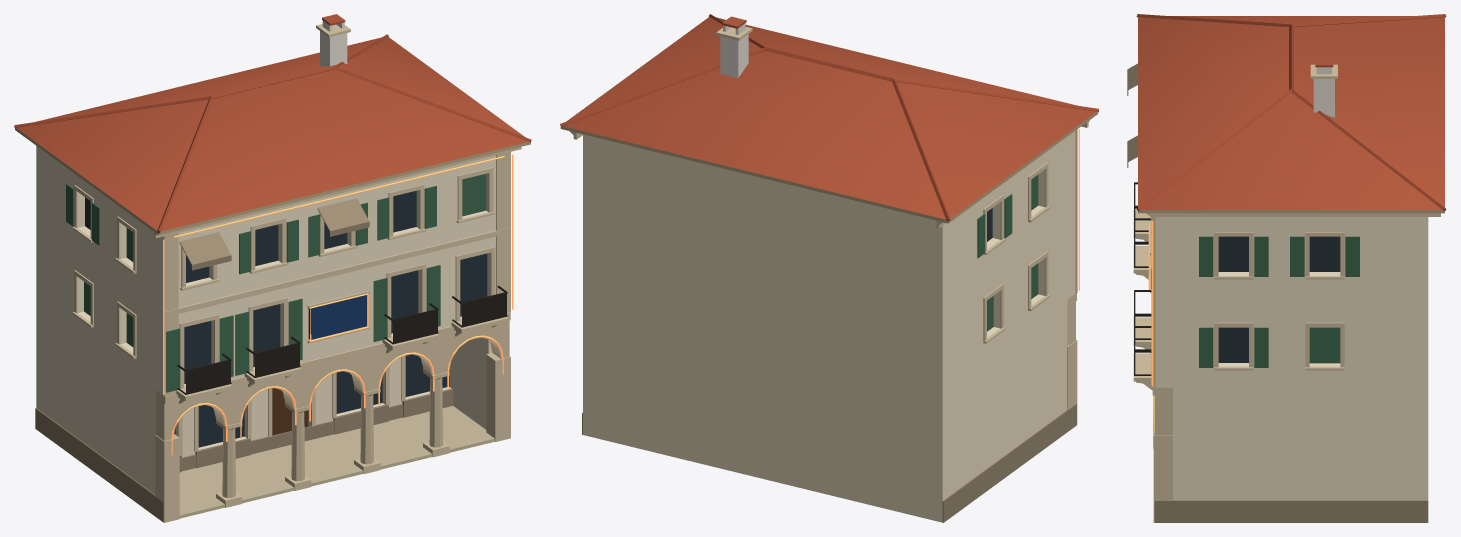
3 renders of one model, left to right at view 1: azimuth 30°, elevation 25°; view 2: azimuth 150°, elevation 25°; view 3: azimuth 270°, elevation 25°, orthographic. The views are drawn at different scales.
Parts seen in each view (by area): view 1: townhall.lod1; view 2: townhall.lod1; view 3: townhall.lod1.
Part boxes in pixels (left/top/right/bottom): townhall.lod1: left=14, top=14, right=531, bottom=522; townhall.lod1: left=560, top=14, right=1098, bottom=522; townhall.lod1: left=1127, top=14, right=1446, bottom=522.
Size of the model in its own units: 15.2 by 14.91 by 10.5.
